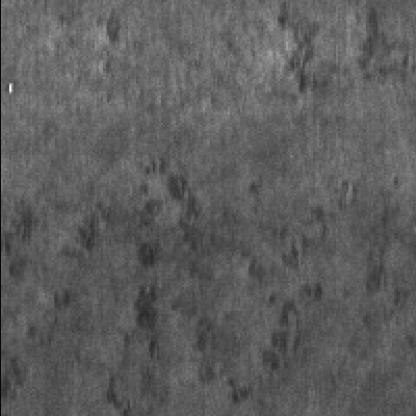rolled-in_scale: (68, 162, 222, 416), (173, 181, 337, 412), (2, 202, 106, 352), (266, 6, 410, 102)
